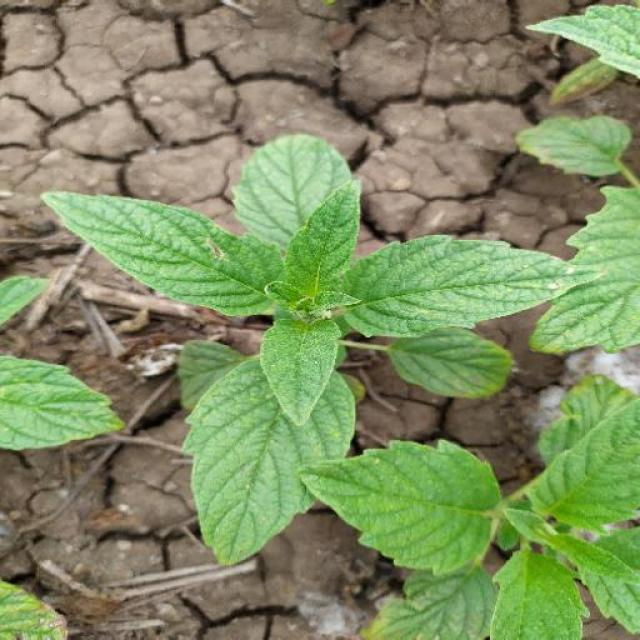crop: (44, 132, 570, 564), (300, 379, 636, 640)
